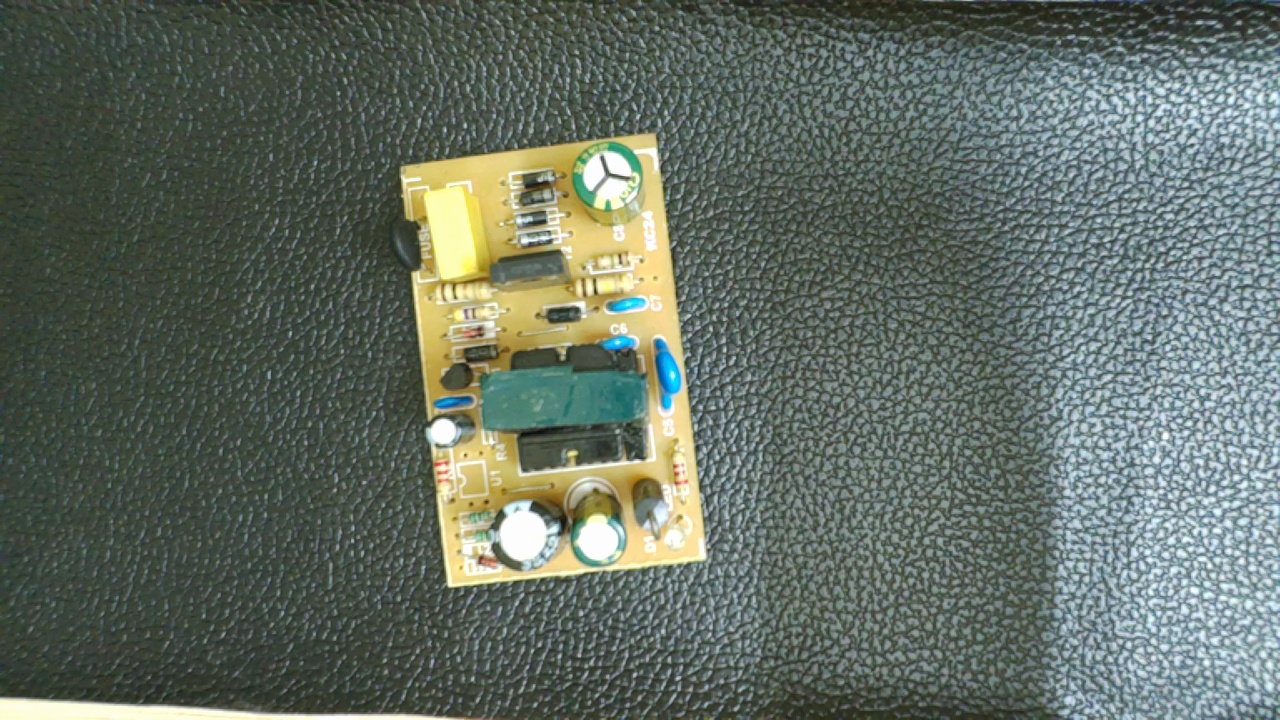fuse: (389, 197, 437, 282)
hv_capacitor: (567, 138, 648, 228)
mov: (647, 327, 686, 416)
